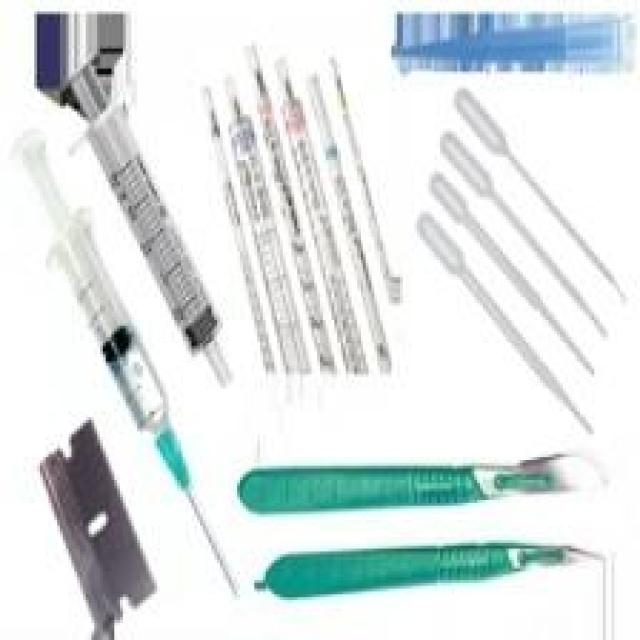syringe: (12, 69, 236, 614), (210, 67, 404, 393)
